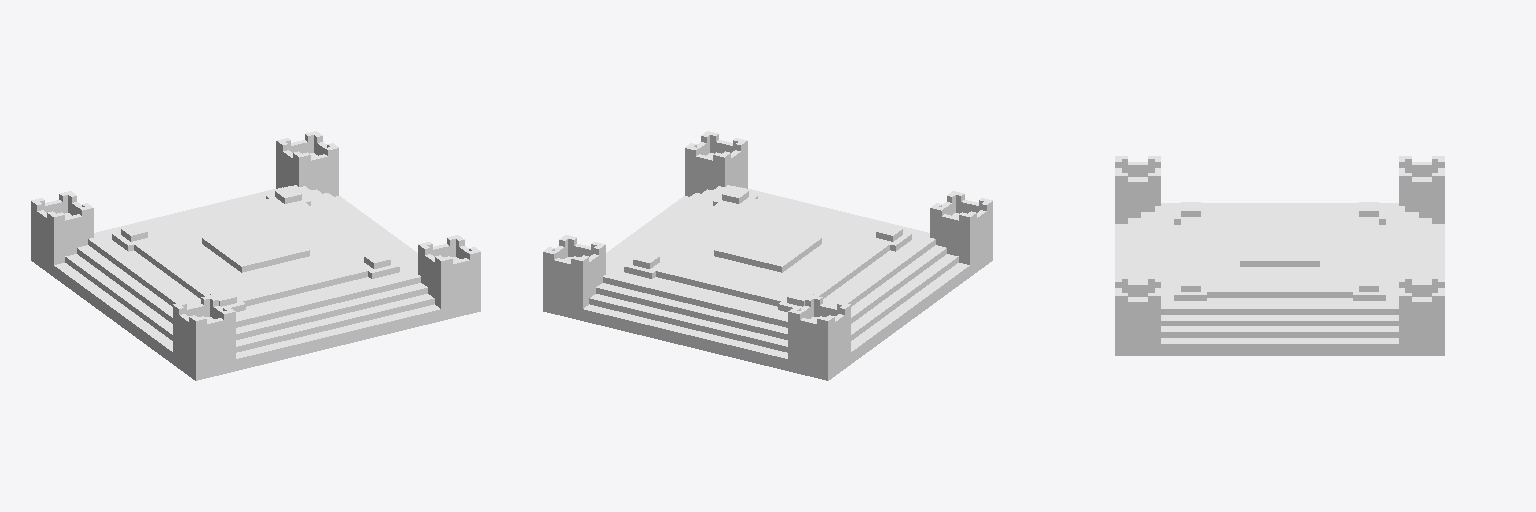
File: Shrine.obj
3 views of the same model, side by side, from view 1: azimuth 30°, elevation 25°; view 2: azimuth 150°, elevation 25°; view 3: azimuth 270°, elevation 25° (orthographic).
Size of the model in its own units: 50 by 10 by 50.